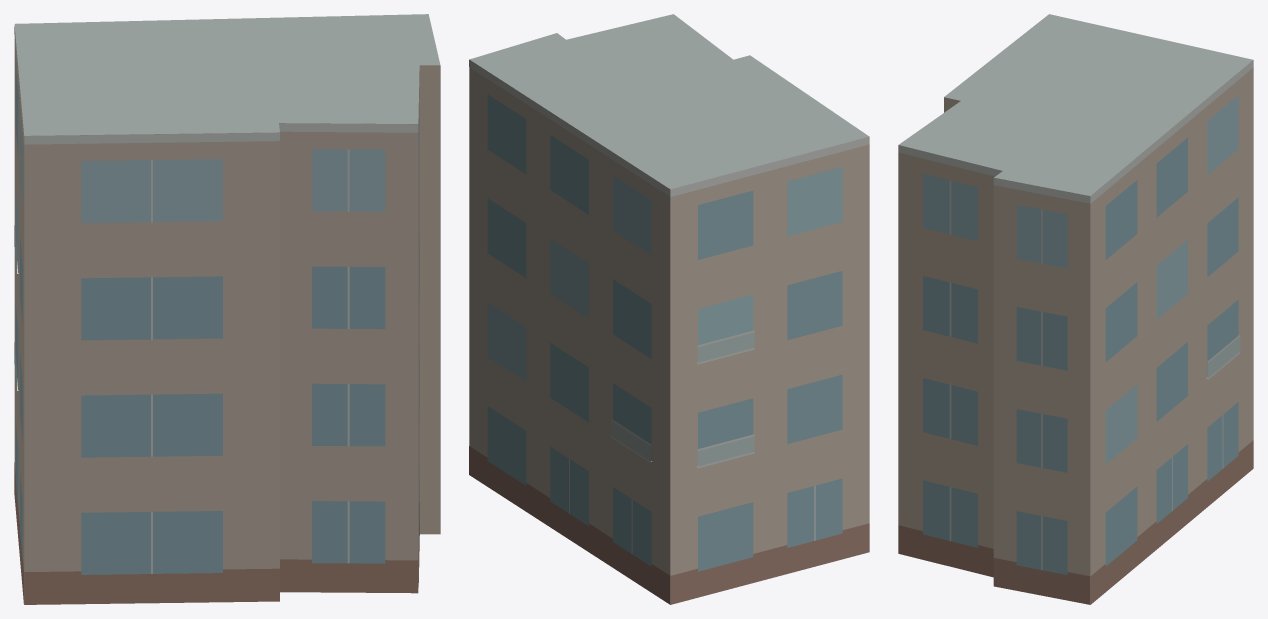
The model's file is survey-upis-32726278.glb.
3 renders of one model, left to right at view 1: azimuth 30°, elevation 25°; view 2: azimuth 150°, elevation 25°; view 3: azimuth 270°, elevation 25°, orthographic. The views are drawn at different scales.
Parts seen in each view (by area): view 1: survey-upis-32726278.tmp; view 2: survey-upis-32726278.tmp; view 3: survey-upis-32726278.tmp.
Part boxes in pixels (x1,y1,x2,y2): survey-upis-32726278.tmp: (14,14,440,604); survey-upis-32726278.tmp: (469,14,869,604); survey-upis-32726278.tmp: (898,14,1253,604).
Bounding box in the file's own units: 12.62 × 13.2 × 10.4.
